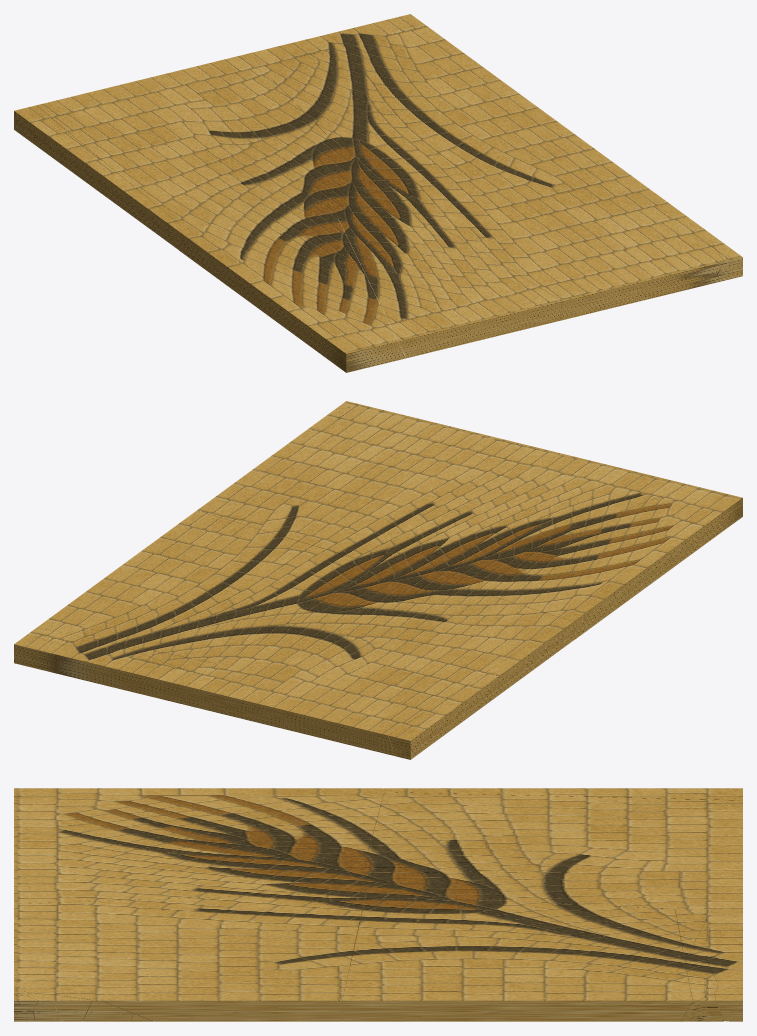
File: mosaicShattered.fbx
3 renders of one model, top to bottom at view 1: azimuth 30°, elevation 25°; view 2: azimuth 150°, elevation 25°; view 3: azimuth 270°, elevation 25°, orthographic. The views are drawn at different scales.
Visible parts, largest first — view 1: Cube.030_cell.011, Cube.030_cell.013, Cube.030_cell.014, Cube.030_cell.008, Cube.030_cell.009, Cube.030_cell.015_cell.004, Cube.030_cell.015_cell.007, Cube.030_cell.012_cell.004, Cube.030_cell.015_cell; view 2: Cube.030_cell.011, Cube.030_cell.013, Cube.030_cell.014, Cube.030_cell.008, Cube.030_cell.009, Cube.030_cell.015_cell.004, Cube.030_cell.015_cell, Cube.030_cell.015_cell.007, Cube.030_cell.015_cell.001; view 3: Cube.030_cell.011, Cube.030_cell.014, Cube.030_cell.013, Cube.030_cell.009, Cube.030_cell.008, Cube.030_cell.015_cell.004, Cube.030_cell.012_cell.004, Cube.030_cell.015_cell.001, Cube.030_cell.015_cell.007, Cube.030_cell.015_cell.
Boxes of the visible parts, x1=… form: Cube.030_cell.011: x1=14, y1=56, x2=379, y2=249; Cube.030_cell.013: x1=380, y1=148, x2=723, y2=320; Cube.030_cell.014: x1=271, y1=31, x2=592, y2=188; Cube.030_cell.008: x1=178, y1=202, x2=405, y2=372; Cube.030_cell.009: x1=330, y1=189, x2=561, y2=358; Cube.030_cell.015_cell.004: x1=237, y1=34, x2=349, y2=78; Cube.030_cell.015_cell.007: x1=345, y1=26, x2=433, y2=54; Cube.030_cell.012_cell.004: x1=703, y1=228, x2=742, y2=283; Cube.030_cell.015_cell: x1=327, y1=21, x2=393, y2=46; Cube.030_cell.011: x1=184, y1=568, x2=574, y2=759; Cube.030_cell.013: x1=197, y1=405, x2=526, y2=567; Cube.030_cell.014: x1=37, y1=510, x2=387, y2=663; Cube.030_cell.008: x1=440, y1=485, x2=742, y2=639; Cube.030_cell.009: x1=389, y1=445, x2=690, y2=579; Cube.030_cell.015_cell.004: x1=98, y1=646, x2=214, y2=703; Cube.030_cell.015_cell: x1=16, y1=643, x2=113, y2=684; Cube.030_cell.015_cell.007: x1=35, y1=627, x2=127, y2=651; Cube.030_cell.015_cell.001: x1=14, y1=629, x2=51, y2=663; Cube.030_cell.011: x1=364, y1=788, x2=742, y2=909; Cube.030_cell.014: x1=342, y1=892, x2=692, y2=1021; Cube.030_cell.013: x1=14, y1=892, x2=366, y2=1021; Cube.030_cell.009: x1=14, y1=816, x2=366, y2=903; Cube.030_cell.008: x1=14, y1=788, x2=384, y2=865; Cube.030_cell.015_cell.004: x1=675, y1=908, x2=742, y2=956; Cube.030_cell.012_cell.004: x1=14, y1=990, x2=152, y2=1021; Cube.030_cell.015_cell.001: x1=681, y1=984, x2=742, y2=1021; Cube.030_cell.015_cell.007: x1=683, y1=954, x2=718, y2=1004; Cube.030_cell.015_cell: x1=705, y1=956, x2=742, y2=1021.
Bounding box in the file's own units: 469 × 21.4 × 681.
Materials: 1 (1 with a texture image).
